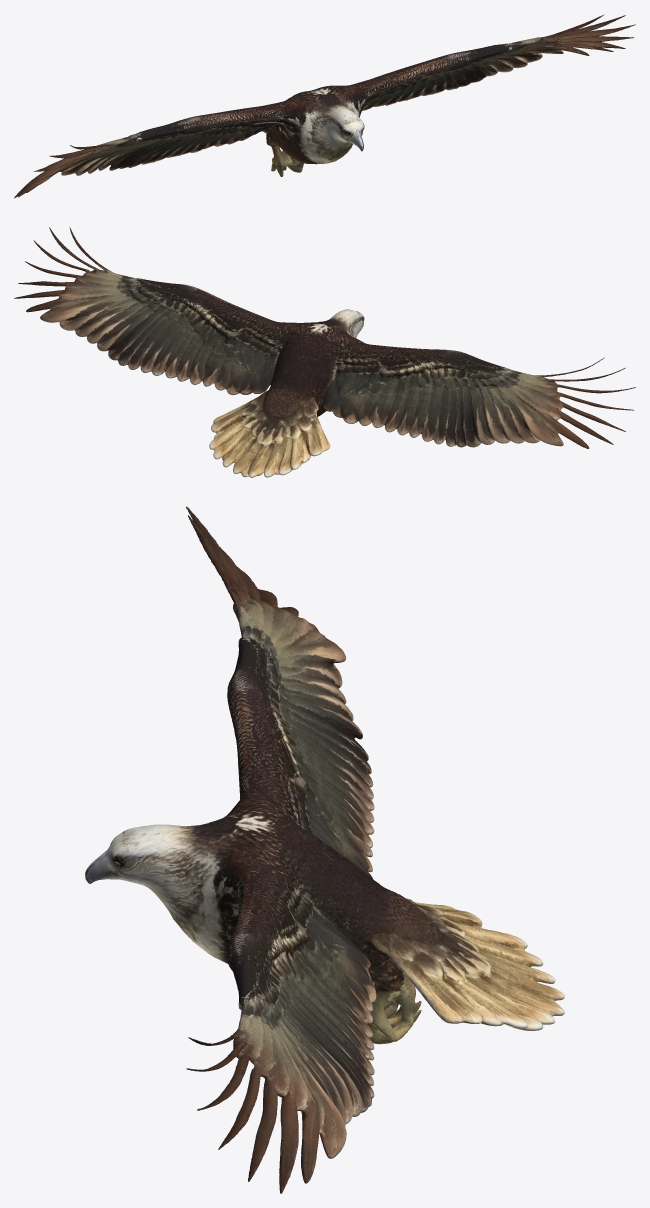
File: hawk_hi.glb
3 views of the same model, one above another, from view 1: azimuth 30°, elevation 25°; view 2: azimuth 150°, elevation 25°; view 3: azimuth 270°, elevation 25° (orthographic). The views are drawn at different scales.
Visible parts, largest first — view 1: Object_5; view 2: Object_5; view 3: Object_5.
Part boxes in pixels (bbox=[...]): Object_5: bbox=[14, 14, 635, 198]; Object_5: bbox=[14, 227, 635, 477]; Object_5: bbox=[85, 506, 564, 1193].
Size of the model in its own units: 1.89 by 0.386 by 0.6436.
Materials: 1 (1 with a texture image).
